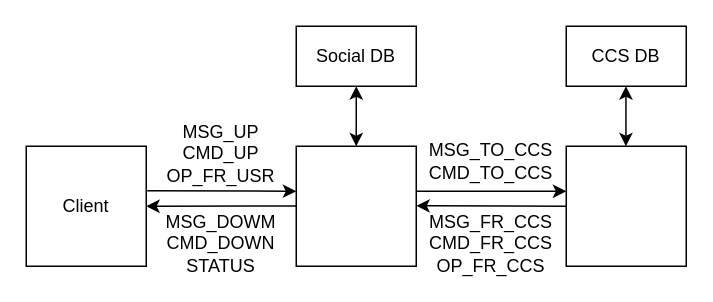
The diagram is 713 pixels wide and 302 high, and some of its shapes have lost their labels. Here are the shapes that lost their labels. From the top down, the box of each, then its label:
(295, 145, 416, 266): Social Server
(565, 145, 686, 266): CCS
